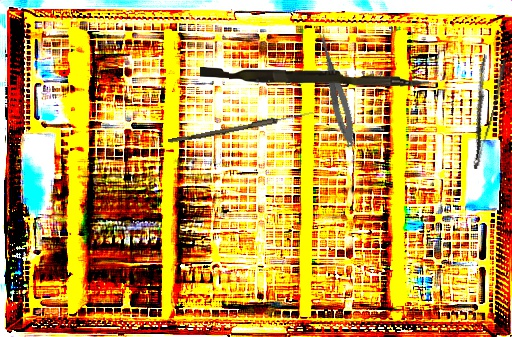Dressing Forceps: (454, 54, 509, 170)
Micro Scissor: (310, 28, 361, 149)
Pusher: (199, 67, 430, 87)
Surgical Spoon: (167, 108, 315, 147)
